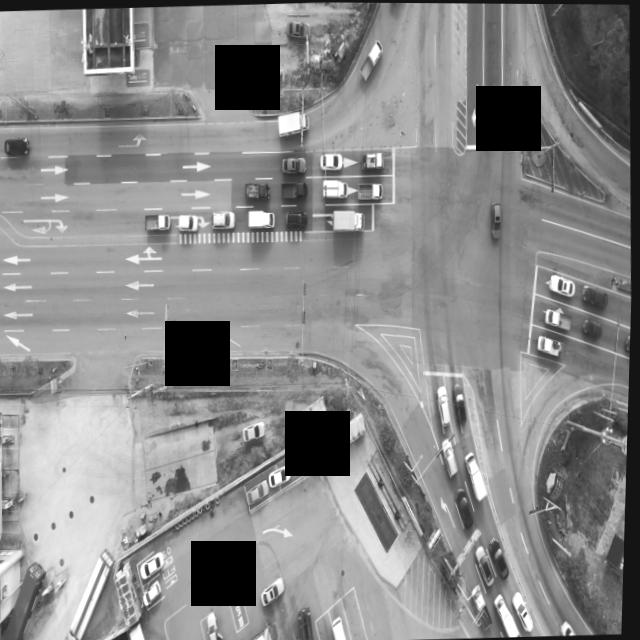car: (514, 590, 536, 631), (477, 544, 497, 587), (491, 538, 511, 580), (457, 490, 476, 531), (442, 436, 460, 478), (264, 578, 288, 607), (454, 388, 469, 432), (550, 273, 576, 298), (581, 285, 608, 308), (436, 387, 451, 428), (247, 482, 270, 508), (143, 555, 165, 581), (255, 69, 281, 90), (144, 581, 163, 609), (270, 464, 293, 487), (245, 421, 269, 443), (286, 21, 311, 42), (207, 612, 225, 640), (4, 140, 30, 159), (209, 206, 233, 226), (282, 157, 307, 176), (321, 153, 344, 173), (490, 203, 502, 240), (213, 211, 236, 230), (284, 211, 306, 230), (583, 319, 604, 338), (179, 214, 201, 232), (564, 620, 582, 635), (625, 335, 632, 355)
medium_truck: (66, 550, 118, 640), (331, 207, 368, 233), (277, 111, 310, 136), (298, 606, 316, 640)
small_bus: (334, 616, 355, 640)
small_truck: (466, 448, 491, 501), (495, 590, 520, 636), (472, 583, 495, 628), (360, 40, 384, 82), (546, 307, 574, 331), (536, 334, 563, 357), (247, 209, 276, 230), (323, 178, 350, 200), (357, 180, 385, 200), (281, 180, 309, 199), (146, 213, 173, 232), (360, 150, 385, 170), (245, 181, 270, 200)
